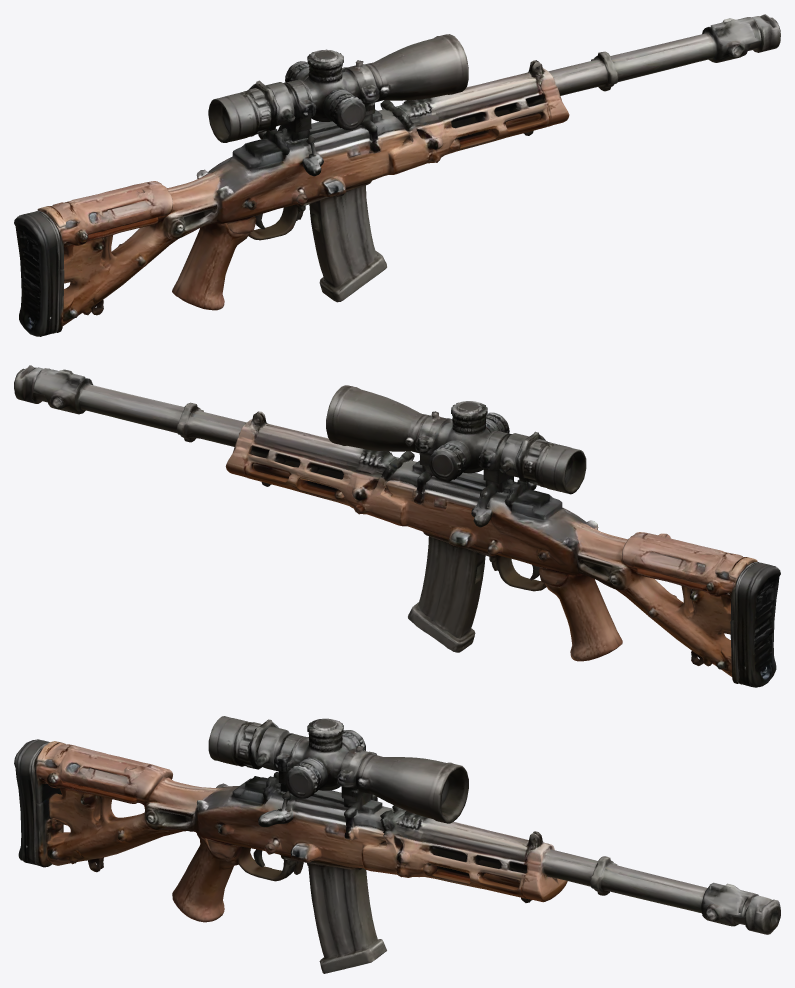
File: rn_tundra.glb
3 views of the same model, one above another, from view 1: azimuth 30°, elevation 25°; view 2: azimuth 150°, elevation 25°; view 3: azimuth 330°, elevation 25° (orthographic).
Parts seen in each view (by area): view 1: tripo_node_c49611a4-2c2a-43cd-b11a-caeddd2f2ff0; view 2: tripo_node_c49611a4-2c2a-43cd-b11a-caeddd2f2ff0; view 3: tripo_node_c49611a4-2c2a-43cd-b11a-caeddd2f2ff0.
Part boxes in pixels (left/top/right/bottom): tripo_node_c49611a4-2c2a-43cd-b11a-caeddd2f2ff0: left=14, top=14, right=780, bottom=336; tripo_node_c49611a4-2c2a-43cd-b11a-caeddd2f2ff0: left=14, top=365, right=780, bottom=687; tripo_node_c49611a4-2c2a-43cd-b11a-caeddd2f2ff0: left=14, top=716, right=780, bottom=973.
Size of the model in its own units: 0.9839 by 0.3049 by 0.1282.
Materials: 1 (1 with a texture image).
